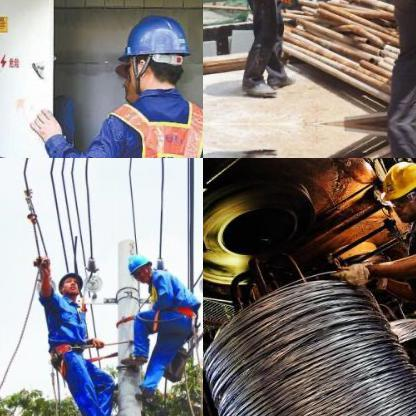Helmet: (116, 5, 194, 96), (377, 158, 415, 223), (124, 251, 152, 280), (57, 268, 83, 297)
